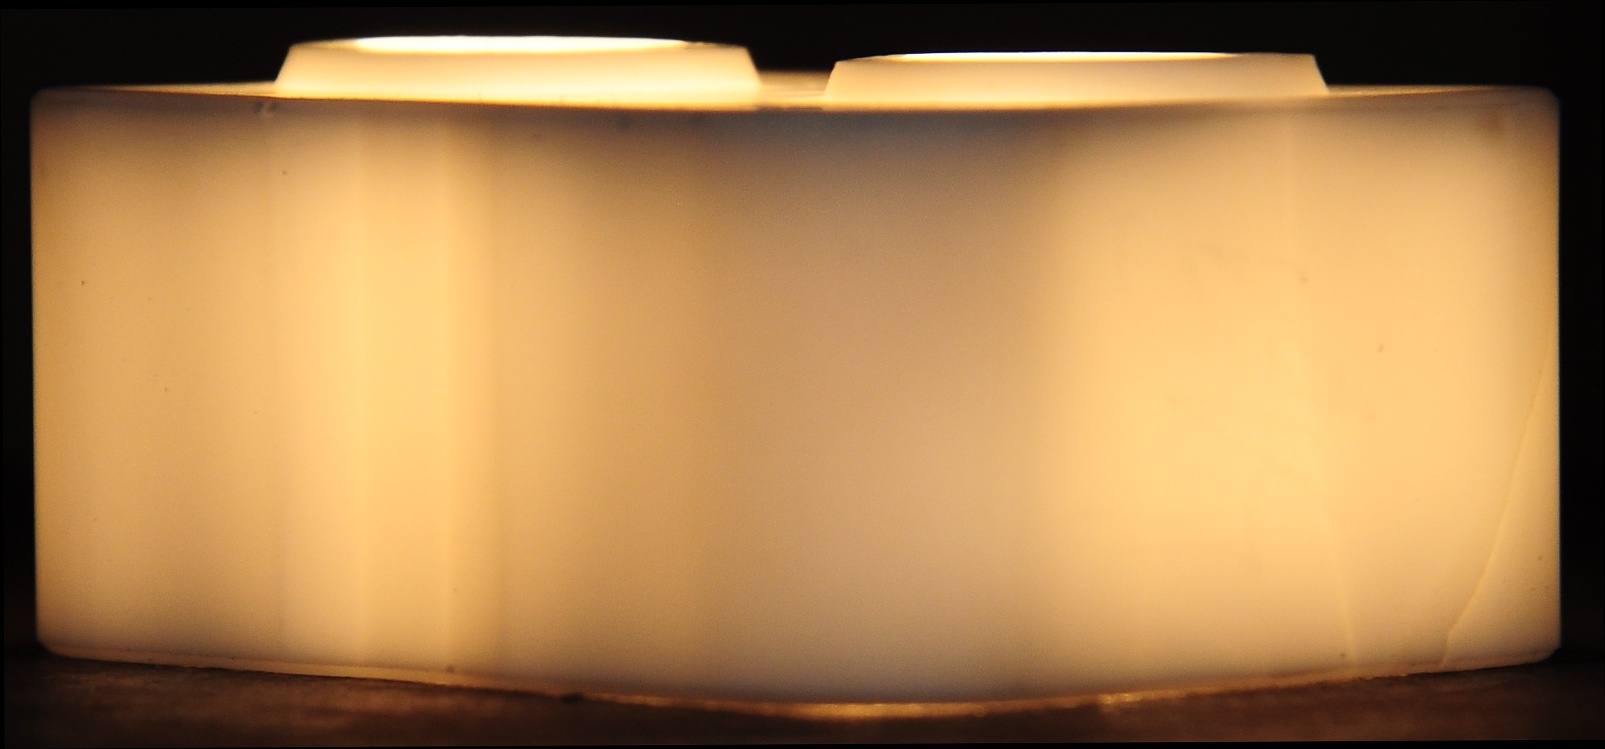flaw: (1422, 343, 1560, 673), (1304, 304, 1358, 689)
